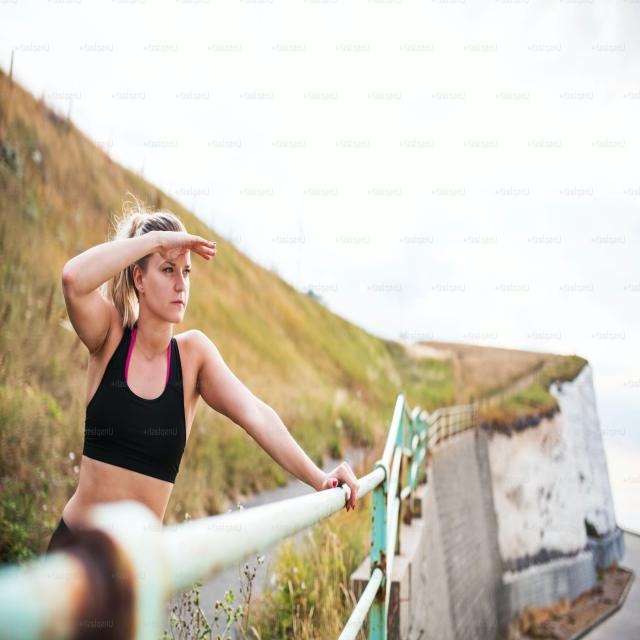adult: (50, 210, 358, 558)
